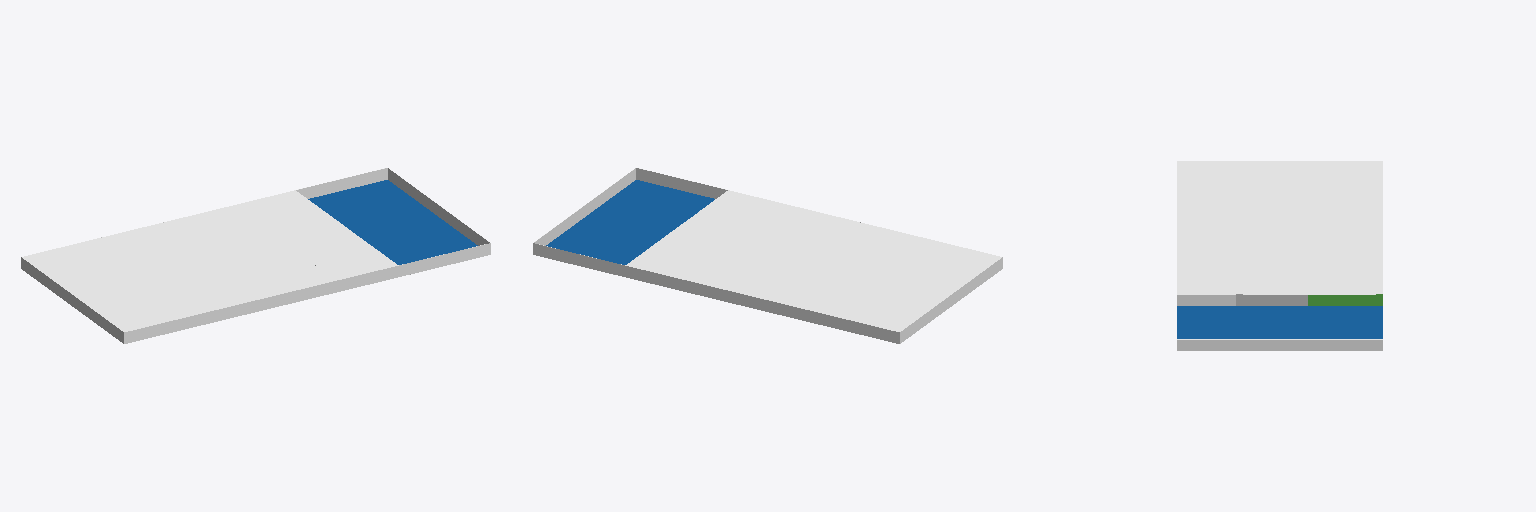
File: FactoryMap.obj
3 renders of one model, left to right at view 1: azimuth 30°, elevation 25°; view 2: azimuth 150°, elevation 25°; view 3: azimuth 270°, elevation 25°, orthographic.
Visible parts, largest first — view 1: room_15_79, room_17_82, room_13_75, room_14_77, wall_9_52, room_16_81, wall_2_10, wall_11_65, wall_12_70, wall_10_59, wall_8_46; view 2: room_15_79, room_17_82, room_13_75, wall_1_4, room_14_77, room_16_81, wall_2_10, wall_11_65, wall_10_58, wall_12_71; view 3: room_15_79, room_17_82, room_13_75, room_14_77, wall_11_64, room_16_81, room_14_76, room_15_78, wall_7_40.
Part boxes in pixels (left/top/right/bottom): room_15_79: left=56, top=211, right=367, bottom=323; room_17_82: left=308, top=180, right=477, bottom=264; room_13_75: left=22, top=249, right=156, bottom=331; room_14_77: left=212, top=190, right=332, bottom=237; wall_9_52: left=124, top=281, right=335, bottom=343; room_16_81: left=308, top=244, right=397, bottom=280; wall_2_10: left=21, top=257, right=123, bottom=343; wall_11_65: left=388, top=168, right=489, bottom=245; wall_12_70: left=399, top=243, right=490, bottom=276; wall_10_59: left=296, top=168, right=387, bottom=198; wall_8_46: left=336, top=266, right=398, bottom=292; room_15_79: left=664, top=205, right=967, bottom=323; room_17_82: left=546, top=180, right=714, bottom=264; room_13_75: left=867, top=249, right=1001, bottom=331; wall_1_4: left=625, top=266, right=899, bottom=343; room_14_77: left=626, top=238, right=746, bottom=285; room_16_81: left=699, top=190, right=789, bottom=226; wall_2_10: left=900, top=257, right=1002, bottom=343; wall_11_65: left=534, top=168, right=635, bottom=245; wall_10_58: left=533, top=243, right=624, bottom=276; wall_12_71: left=636, top=168, right=727, bottom=198; room_15_79: left=1177, top=177, right=1382, bottom=294; room_17_82: left=1177, top=306, right=1382, bottom=338; room_13_75: left=1177, top=161, right=1382, bottom=176; room_14_77: left=1308, top=253, right=1382, bottom=294; wall_11_64: left=1177, top=340, right=1382, bottom=350; room_16_81: left=1177, top=264, right=1235, bottom=293; room_14_76: left=1308, top=294, right=1382, bottom=305; room_15_78: left=1236, top=294, right=1307, bottom=305; wall_7_40: left=1177, top=295, right=1235, bottom=305.
Bounding box in the file's own units: 12976 × 400 × 6316.